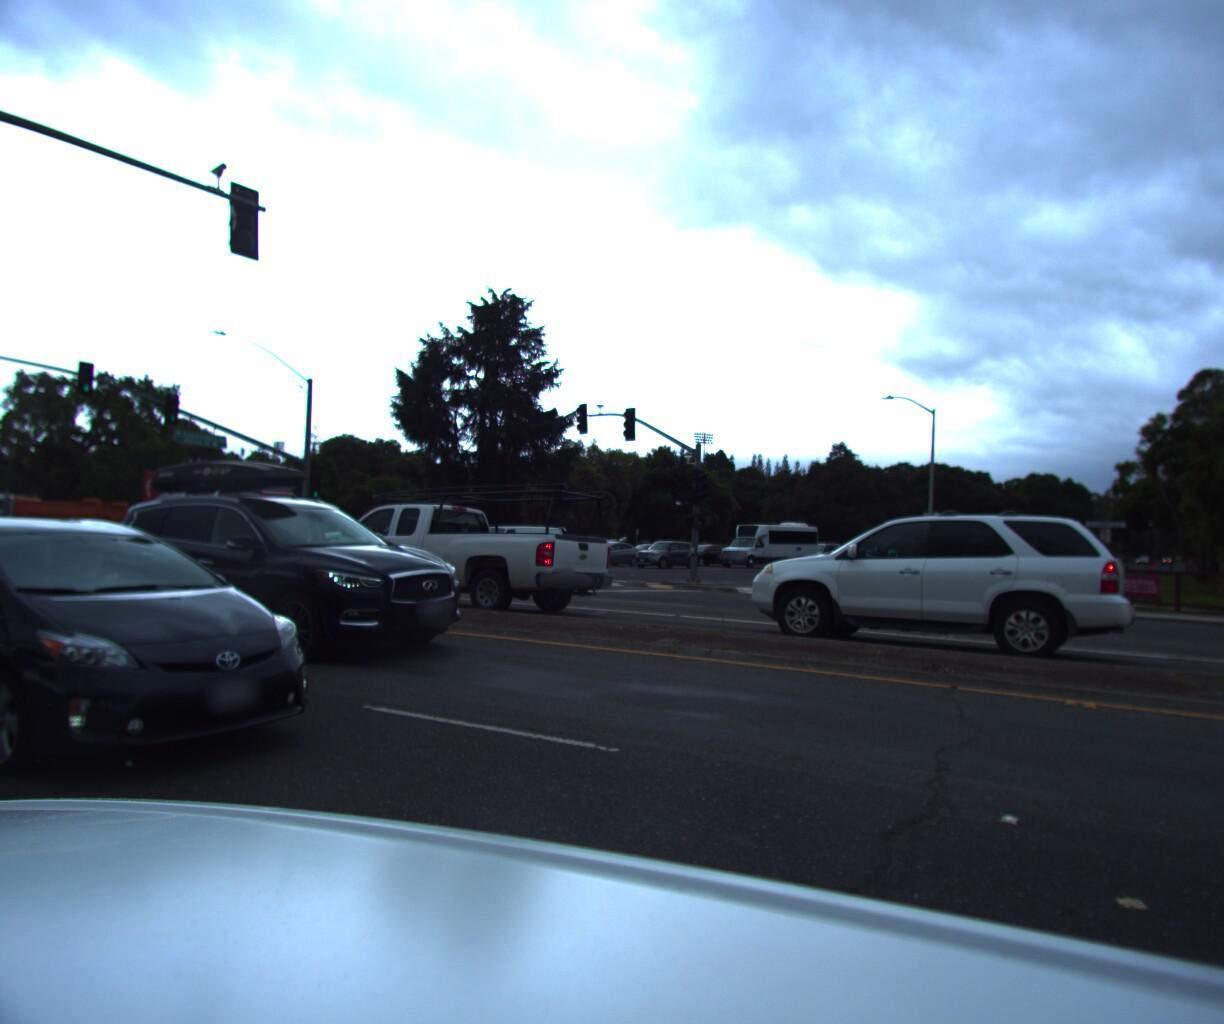car: (0, 503, 363, 831), (83, 444, 502, 681), (725, 501, 1142, 677), (270, 480, 632, 625), (450, 521, 571, 573), (628, 540, 702, 570), (571, 541, 650, 568), (798, 548, 855, 573)
other_vehicle: (711, 516, 822, 571)
truck: (0, 487, 183, 560)
